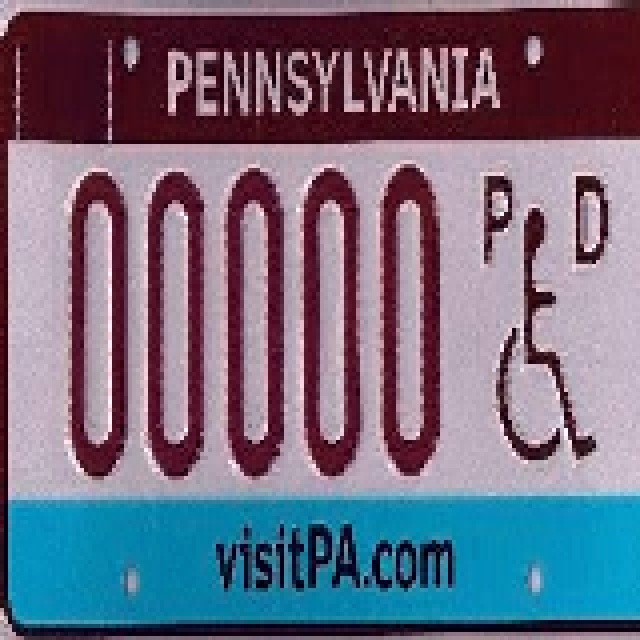ISA: (494, 202, 596, 467)
